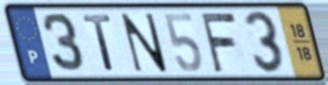3: (243, 9, 288, 76), (41, 12, 87, 75)
5: (161, 11, 205, 74)
F: (197, 11, 239, 75)
N: (119, 12, 170, 74)
T: (80, 13, 117, 73)
